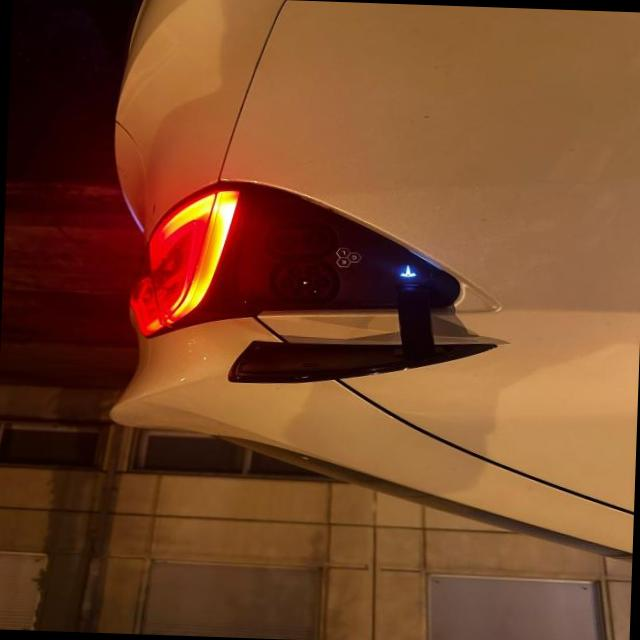inlet: (276, 260, 331, 297)
inlet-above-left: (308, 286, 318, 295)
inlet-above-right: (290, 287, 301, 295)
inlet-below-left: (302, 263, 319, 276)
inlet-below-right: (285, 264, 301, 277)
inlet-center: (295, 276, 311, 288)
inlet-center-left: (313, 275, 328, 288)
inlet-center-right: (278, 277, 294, 289)
